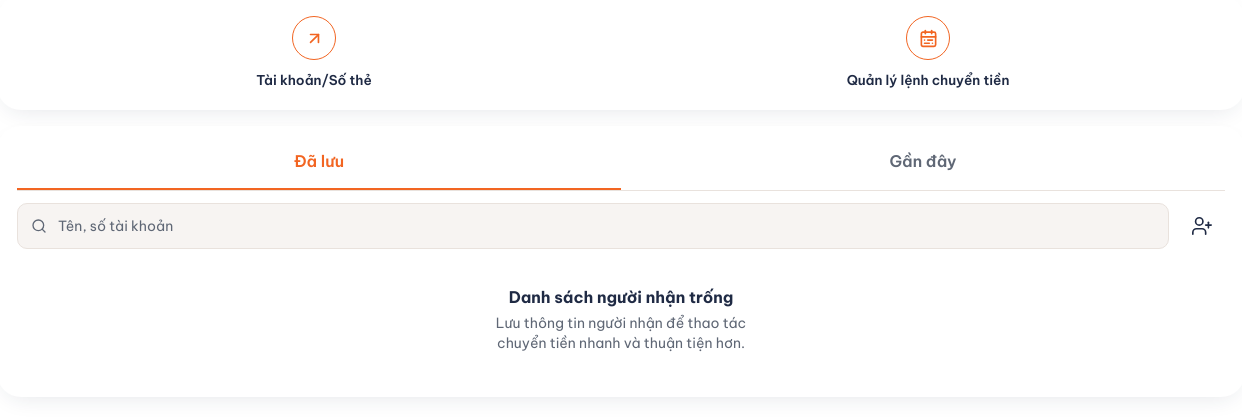
Test case: TransferAccountPicker › shows the real bank logo and full account number for a recent (transaction-history) recipient too
Click the tab "Gần đây".
click(923, 168)  # box [621,146,1225,190]
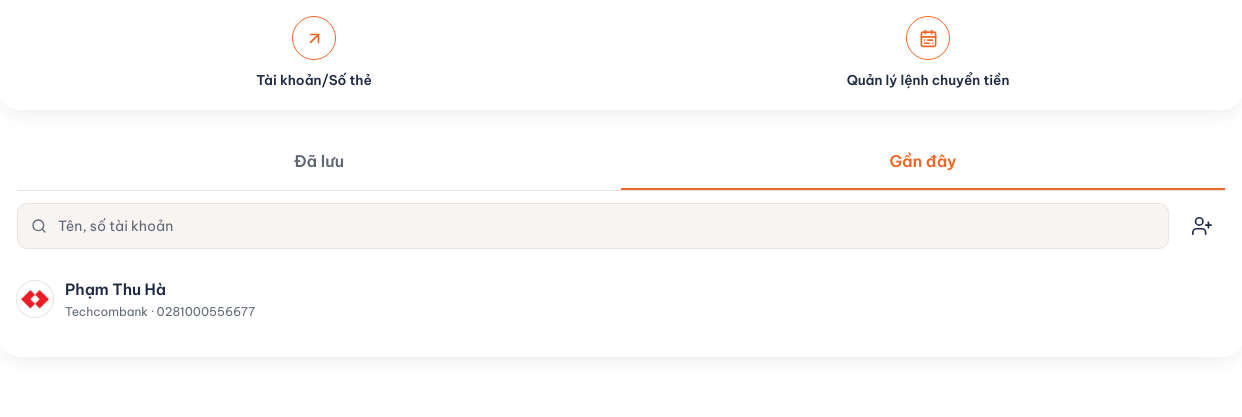
Expected: the picture is shown, [17,281,53,317]
Expected: the text "0281000556677" is shown, [157,304,255,319]
